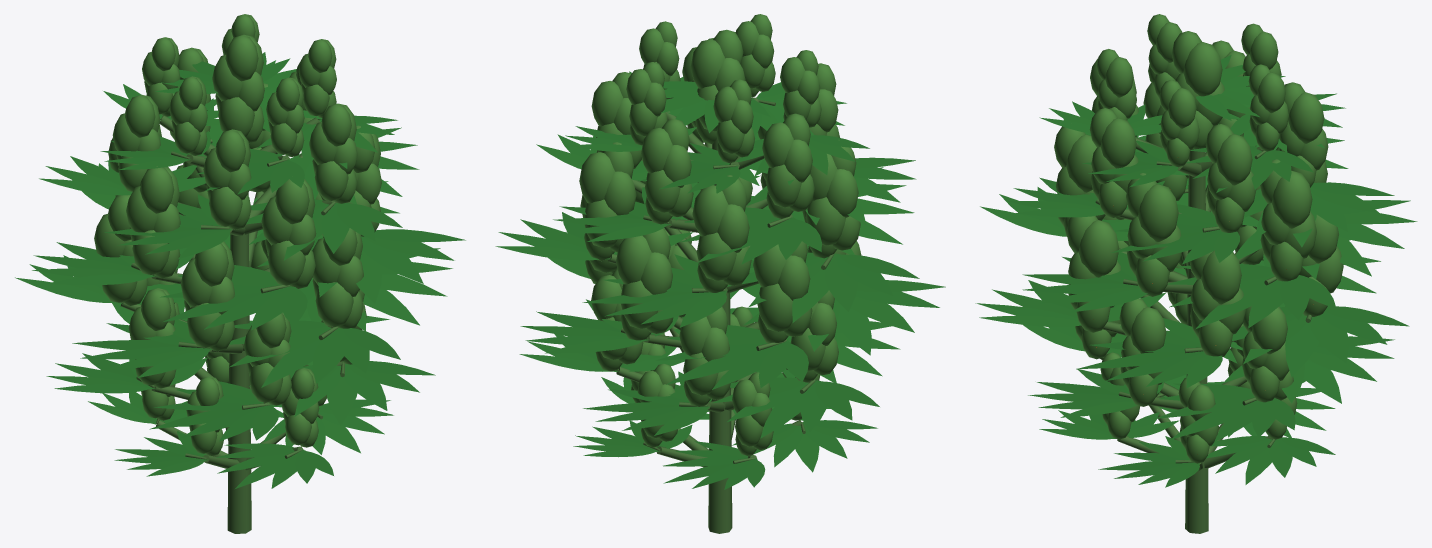
Rendered from plant-flower.glb.
The picture shows the model from 3 angles, left to right: view 1: azimuth 30°, elevation 25°; view 2: azimuth 150°, elevation 25°; view 3: azimuth 270°, elevation 25°; orthographic projection.
Parts seen in each view (by area): view 1: Bud (×49), LeafBlade (×45), Branch; view 2: Bud (×54), LeafBlade (×43), Branch; view 3: Bud (×49), LeafBlade (×44), Branch.
Part boxes in pixels (left/top/right/bottom): Bud (×49): left=94, top=35, right=381, bottom=445; LeafBlade (×45): left=15, top=156, right=465, bottom=453; Branch: left=227, top=193, right=251, bottom=533; Bud (×54): left=579, top=21, right=860, bottom=446; LeafBlade (×43): left=495, top=167, right=945, bottom=472; Branch: left=708, top=138, right=732, bottom=533; Bud (×49): left=1054, top=22, right=1343, bottom=463; LeafBlade (×44): left=975, top=182, right=1417, bottom=484; Branch: left=1185, top=149, right=1208, bottom=533.
Bounding box in the file's own units: 0.9153 × 1.1 × 0.8914.
